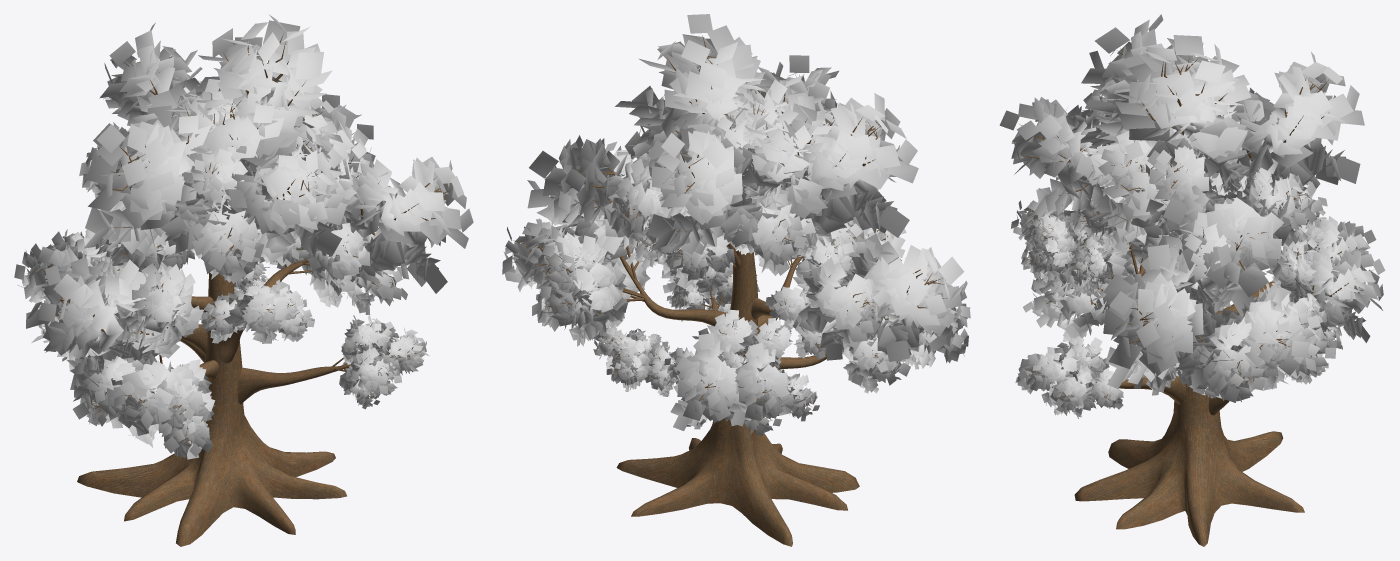
Rendered from TREES A.fbx.
3 views of the same model, side by side, from view 1: azimuth 30°, elevation 25°; view 2: azimuth 150°, elevation 25°; view 3: azimuth 270°, elevation 25° (orthographic). The views are drawn at different scales.
Visible parts, largest first — view 1: Cylinder.016, tree.006, Cylinder.004, Cylinder.002, tree.008, tree.000, Cylinder.005, Cylinder.015, tree.005, Cylinder.006, tree.004, Cylinder.003 (+2 smaller); view 2: tree.008, tree.005, Cylinder.004, Cylinder.002, tree.006, Cylinder.016, Cylinder.006, tree.004, Cylinder.017, Cylinder.003, Cylinder.009, Cylinder.005 (+1 smaller); view 3: Cylinder.004, Cylinder.002, tree.008, tree.004, tree.005, tree.000, Cylinder.017, Cylinder.005, Cylinder.015, Cylinder.016, tree.007, tree.006 (+2 smaller).
Part boxes in pixels (x1=…): Cylinder.016: x1=26, y1=257, x2=218, y2=459; tree.006: x1=83, y1=79, x2=264, y2=283; Cylinder.004: x1=261, y1=121, x2=473, y2=314; Cylinder.002: x1=77, y1=272, x2=346, y2=546; tree.008: x1=127, y1=14, x2=332, y2=208; tree.000: x1=182, y1=131, x2=346, y2=281; Cylinder.005: x1=237, y1=314, x2=429, y2=409; Cylinder.015: x1=200, y1=279, x2=314, y2=363; tree.005: x1=79, y1=22, x2=212, y2=198; Cylinder.006: x1=30, y1=229, x2=214, y2=321; tree.004: x1=298, y1=94, x2=373, y2=225; Cylinder.003: x1=14, y1=229, x2=207, y2=355; tree.008: x1=615, y1=14, x2=839, y2=223; tree.005: x1=647, y1=103, x2=806, y2=288; Cylinder.004: x1=502, y1=135, x2=726, y2=346; Cylinder.002: x1=616, y1=248, x2=859, y2=546; tree.006: x1=725, y1=89, x2=918, y2=262; Cylinder.016: x1=778, y1=227, x2=970, y2=393; Cylinder.006: x1=751, y1=230, x2=891, y2=360; tree.004: x1=558, y1=94, x2=678, y2=274; Cylinder.017: x1=664, y1=309, x2=781, y2=435; Cylinder.003: x1=718, y1=318, x2=819, y2=426; Cylinder.009: x1=593, y1=326, x2=678, y2=396; Cylinder.005: x1=661, y1=261, x2=759, y2=321; Cylinder.004: x1=1103, y1=212, x2=1335, y2=402; Cylinder.002: x1=1074, y1=383, x2=1304, y2=546; tree.008: x1=1080, y1=35, x2=1275, y2=183; tree.004: x1=1140, y1=138, x2=1316, y2=315; tree.005: x1=1192, y1=52, x2=1364, y2=246; tree.000: x1=999, y1=76, x2=1150, y2=247; Cylinder.017: x1=1266, y1=226, x2=1385, y2=349; Cylinder.005: x1=1015, y1=336, x2=1186, y2=418; Cylinder.015: x1=1011, y1=200, x2=1114, y2=296; Cylinder.016: x1=1023, y1=209, x2=1144, y2=341; tree.007: x1=1089, y1=141, x2=1235, y2=245; tree.006: x1=1056, y1=14, x2=1203, y2=180.
Bounding box in the file's own units: 19142 × 19901 × 14808.
